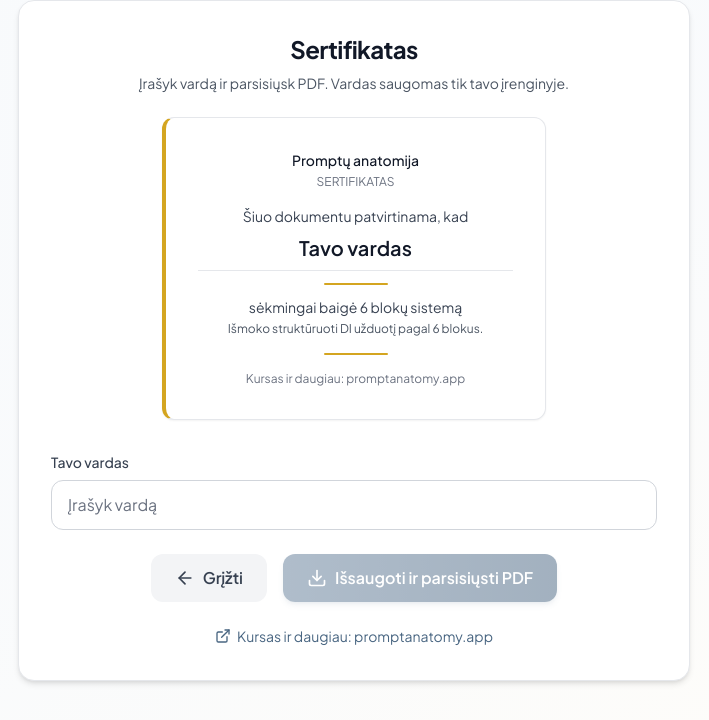
Test case: CertificateScreen › shows error message when download fails
In the field labelled "Tavo vardas": (354, 505) [51,480,657,530], type "Jonas"
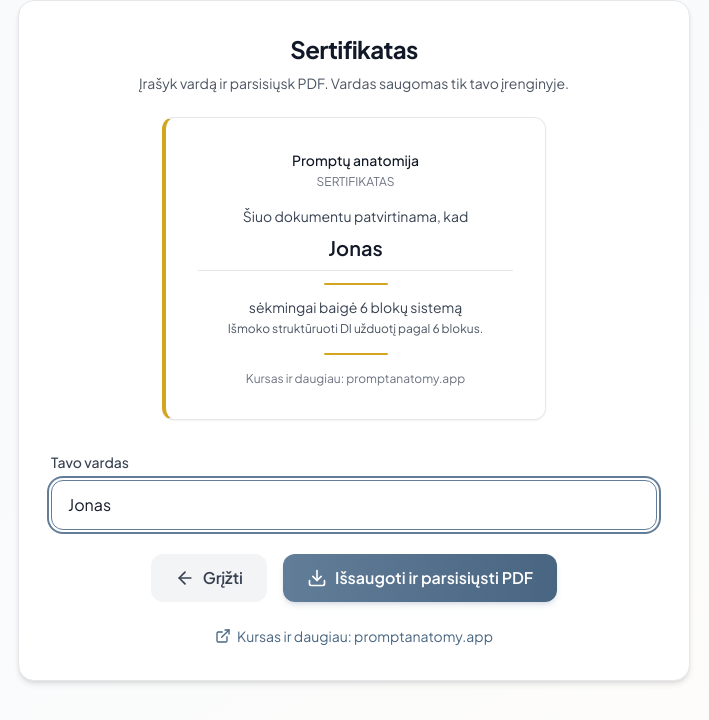
Click the button "Išsaugoti ir parsisiųsti PDF": (420, 578) [283,554,557,602]
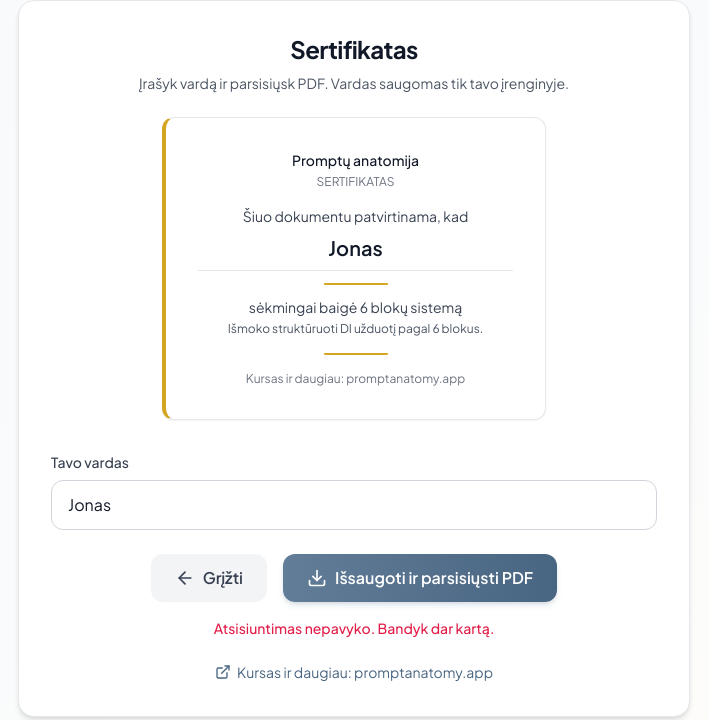
Check: the text "Atsisiuntimas nepavyko. Bandyk dar kartą." is shown, box [214,619,494,637]
